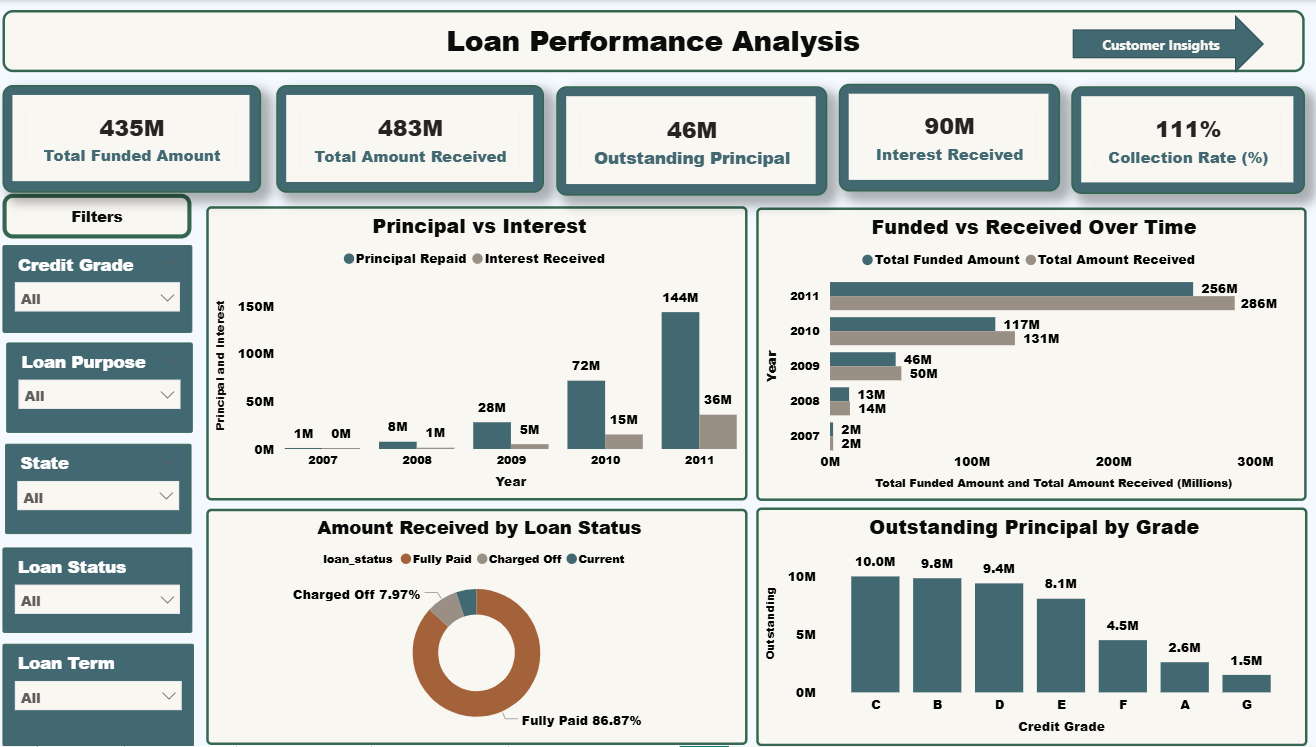

The page's visual inventory and layout, read from the dashboard file:
{"tool":"powerbi","page":{"name":"Performance","canvas":[1280,720],"ordinal":3},"visuals":[{"type":"clusteredBarChart","title":"Funded vs Received Over Time","fields":{"Category":["bank finance_master.issue_d.Variation.Date Hierarchy.Year","bank finance_master.issue_d.Variation.Date Hierarchy.Quarter","bank finance_master.issue_d.Variation.Date Hierarchy.Month"],"Y":["bank finance_master.Total Funded Amount","bank finance_master.Total Amount Received"]},"box":[735,199.9,531.4,283.1],"z":0},{"type":"clusteredColumnChart","title":"Principal vs Interest","fields":{"Category":["bank finance_master.issue_d.Variation.Date Hierarchy.Year"],"Y":["bank finance_master.Principal Repaid","bank finance_master.Interest Received"]},"box":[203.6,198.6,522.7,284.3],"z":1000},{"type":"slicer","fields":{"Values":["bank finance_master.grade"]},"box":[7.2,236.5,183.4,84.5],"z":2000},{"type":"slicer","fields":{"Values":["bank finance_master.loan_status"]},"box":[7.2,528.4,183.4,82],"z":3000},{"type":"slicer","fields":{"Values":["bank finance_master.purpose"]},"box":[10.9,330.6,179.8,86.9],"z":4000},{"type":"slicer","fields":{"Values":["bank finance_master.term"]},"box":[7.4,620.8,185,99.3],"z":5000},{"type":"slicer","fields":{"Values":["bank finance_master.addr_state"]},"box":[9.7,428.3,179.8,86.9],"z":6000},{"type":"textbox","box":[7.2,9.7,1257.1,60.3],"z":7000},{"type":"textbox","box":[7.2,187,182.2,43.4],"z":8000},{"type":"cardVisual","fields":{"Data":["bank finance_master.Total Funded Amount"]},"box":[7.2,82,249.7,103.8],"z":9000},{"type":"cardVisual","fields":{"Data":["bank finance_master.Total Amount Received"]},"box":[271.9,81.9,258.2,104.3],"z":10000},{"type":"donutChart","title":"Amount Received by Loan Status","fields":{"Category":["bank finance_master.loan_status"],"Y":["bank finance_master.Total Amount Received"]},"box":[203.9,491,522.4,228],"z":11000},{"type":"cardVisual","fields":{"Data":["bank finance_master.Outstanding Amount"]},"box":[542,82.8,262,105.4],"z":12000},{"type":"columnChart","title":"Outstanding Principal by Grade","fields":{"Category":["bank finance_master.grade"],"Y":["bank finance_master.Outstanding Principal"]},"box":[734.7,489.8,532,230.4],"z":13000},{"type":"cardVisual","fields":{"Data":["bank finance_master.Interest Received"]},"box":[814.5,81.3,213.8,103.9],"z":14000},{"type":"cardVisual","fields":{"Data":["bank finance_master.Recovery Rate"]},"box":[1038.8,82.8,225.8,103.9],"z":15000},{"type":"shape","box":[1039.4,14.9,184.8,55.8],"z":16000}]}

Visuals, with their boxes in screenshot pixels (x1, y1, x2, y2), scaled from the page's 1280x720 canvas onto the 1316x747 screenshot:
"Funded vs Received Over Time" clusteredBarChart: <bbox>756, 207, 1302, 501</bbox>
"Principal vs Interest" clusteredColumnChart: <bbox>209, 206, 747, 501</bbox>
slicer - bank finance_master.grade: <bbox>7, 245, 196, 333</bbox>
slicer - bank finance_master.loan_status: <bbox>7, 548, 196, 633</bbox>
slicer - bank finance_master.purpose: <bbox>11, 343, 196, 433</bbox>
slicer - bank finance_master.term: <bbox>8, 644, 198, 746</bbox>
slicer - bank finance_master.addr_state: <bbox>10, 444, 195, 535</bbox>
textbox: <bbox>7, 10, 1300, 73</bbox>
textbox: <bbox>7, 194, 195, 239</bbox>
cardVisual - bank finance_master.Total Funded Amount: <bbox>7, 85, 264, 193</bbox>
cardVisual - bank finance_master.Total Amount Received: <bbox>280, 85, 545, 193</bbox>
"Amount Received by Loan Status" donutChart: <bbox>210, 509, 747, 746</bbox>
cardVisual - bank finance_master.Outstanding Amount: <bbox>557, 86, 827, 195</bbox>
"Outstanding Principal by Grade" columnChart: <bbox>755, 508, 1302, 746</bbox>
cardVisual - bank finance_master.Interest Received: <bbox>837, 84, 1057, 192</bbox>
cardVisual - bank finance_master.Recovery Rate: <bbox>1068, 86, 1300, 194</bbox>
shape: <bbox>1069, 15, 1259, 73</bbox>
